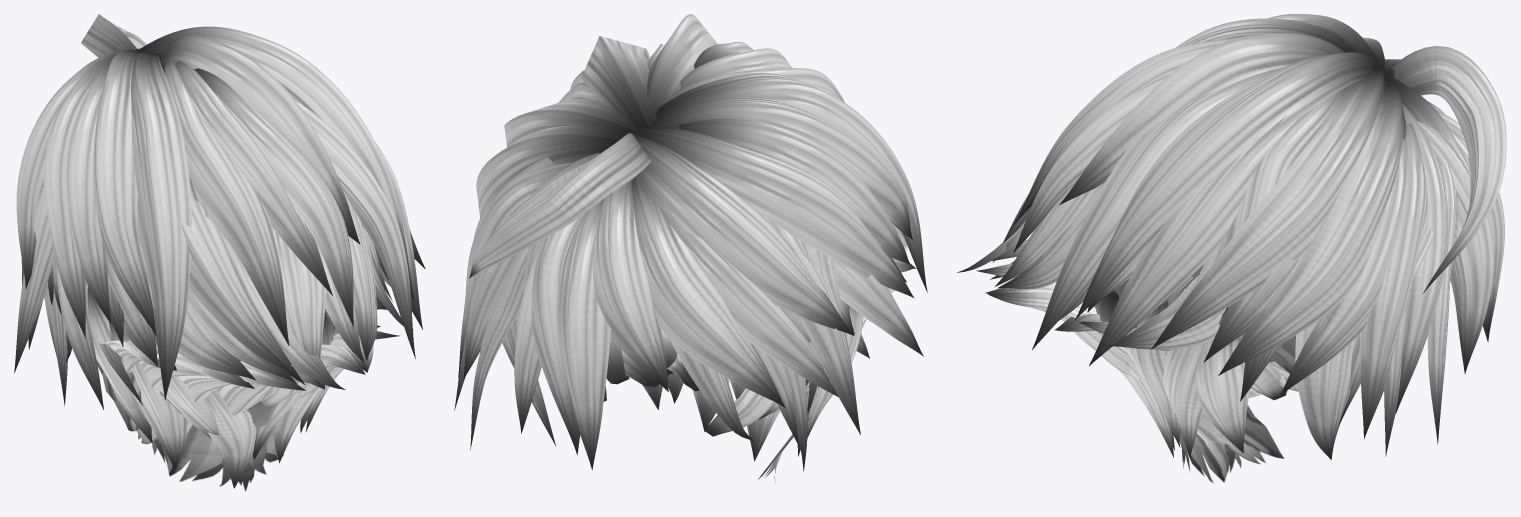
File: hair-feminine-animeParted.glb
The picture shows the model from 3 angles, left to right: view 1: azimuth 30°, elevation 25°; view 2: azimuth 150°, elevation 25°; view 3: azimuth 270°, elevation 25°; orthographic projection. The views are drawn at different scales.
Parts seen in each view (by area): view 1: hair-animeParted; view 2: hair-animeParted; view 3: hair-animeParted.
Boxes of the visible parts, <box> form: hair-animeParted: <box>14,14,425,491</box>; hair-animeParted: <box>454,14,927,481</box>; hair-animeParted: <box>957,14,1506,483</box>.
Bounding box in the file's own units: 0.2697 × 0.3035 × 0.3352.
3 materials, 3 textured.
